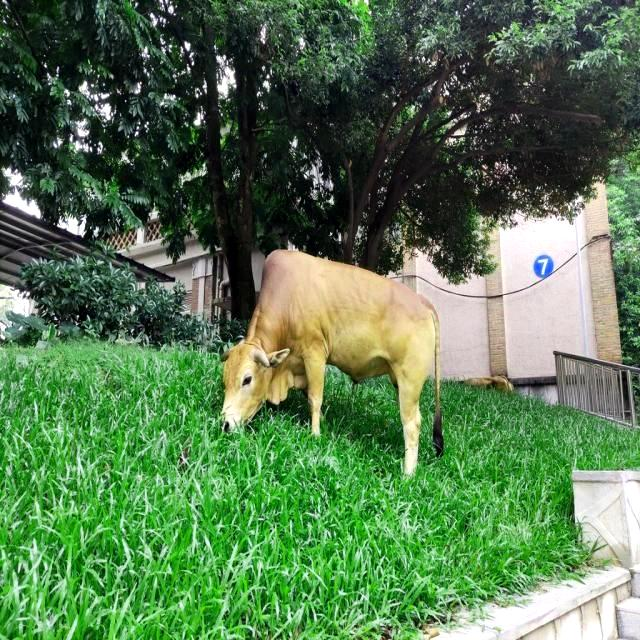COW: (221, 251, 444, 474)
